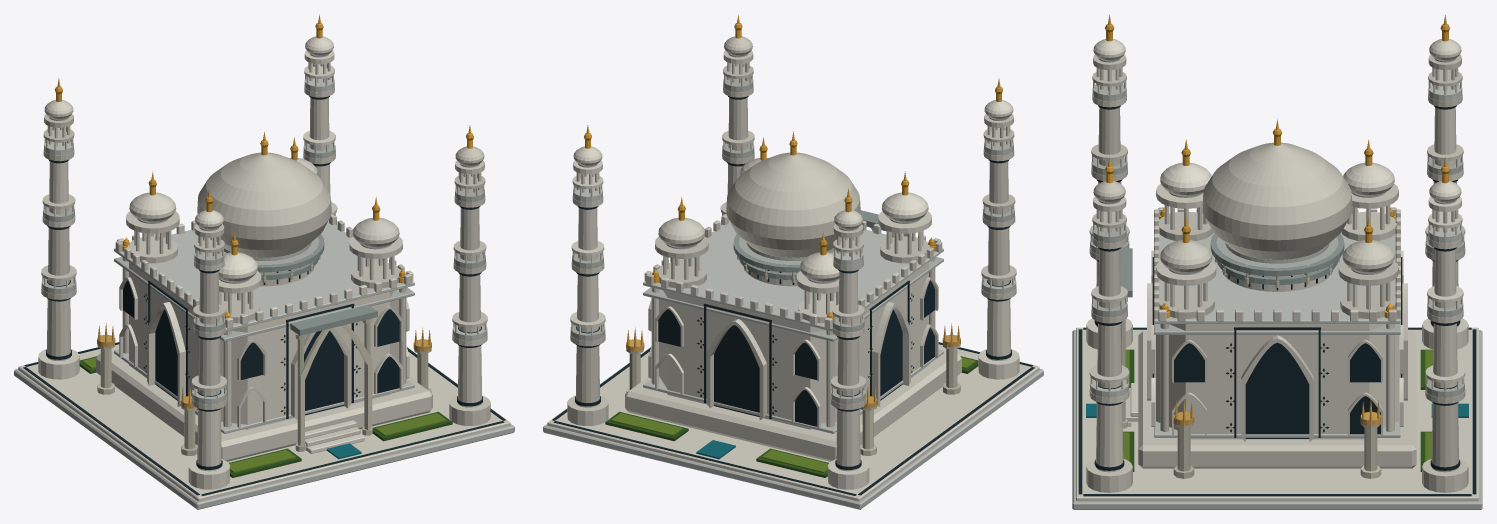
The picture shows the model from 3 angles, left to right: view 1: azimuth 30°, elevation 25°; view 2: azimuth 150°, elevation 25°; view 3: azimuth 270°, elevation 25°; orthographic projection. The views are drawn at different scales.
Parts seen in each view (by area): view 1: fort_L4_0, fort_L4_1; view 2: fort_L4_0, fort_L4_1; view 3: fort_L4_0, fort_L4_1.
Part boxes in pixels (x1,y1,x2,y2): fort_L4_0: (14,23,514,509); fort_L4_1: (56,14,472,410); fort_L4_0: (543,23,1043,509); fort_L4_1: (585,14,1001,410); fort_L4_0: (1072,24,1482,509); fort_L4_1: (1106,15,1448,428).
Bounding box in the file's own units: 7.6 × 6.93 × 7.6.
